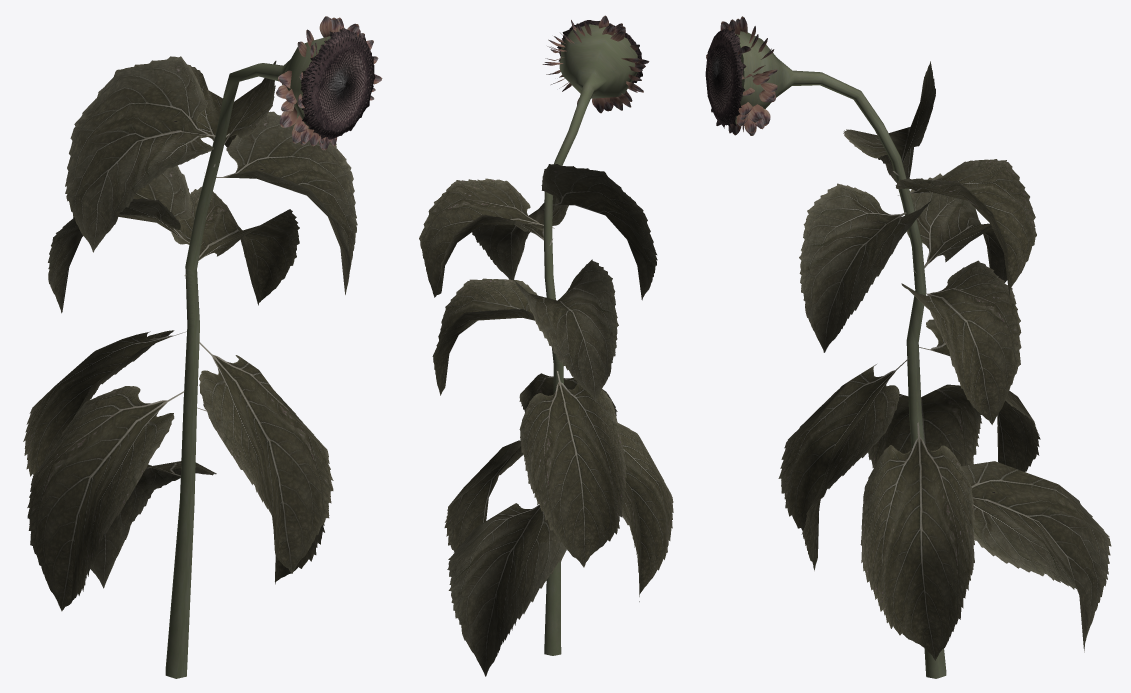
Rendered from Helianthus_Annuus_Autumn_Young.glb.
3 views of the same model, side by side, from view 1: azimuth 30°, elevation 25°; view 2: azimuth 150°, elevation 25°; view 3: azimuth 270°, elevation 25° (orthographic). The views are drawn at different scales.
Visible parts, largest first — view 1: Helianthus_Annuus_Autumn_Young__LOD3; view 2: Helianthus_Annuus_Autumn_Young__LOD3; view 3: Helianthus_Annuus_Autumn_Young__LOD3.
Part boxes in pixels (left/top/right/bottom): Helianthus_Annuus_Autumn_Young__LOD3: left=23, top=16, right=382, bottom=678; Helianthus_Annuus_Autumn_Young__LOD3: left=419, top=15, right=673, bottom=676; Helianthus_Annuus_Autumn_Young__LOD3: left=705, top=16, right=1111, bottom=678.
Bounding box in the file's own units: 0.4552 × 1.12 × 0.618.
Materials: 2 (2 with a texture image).
